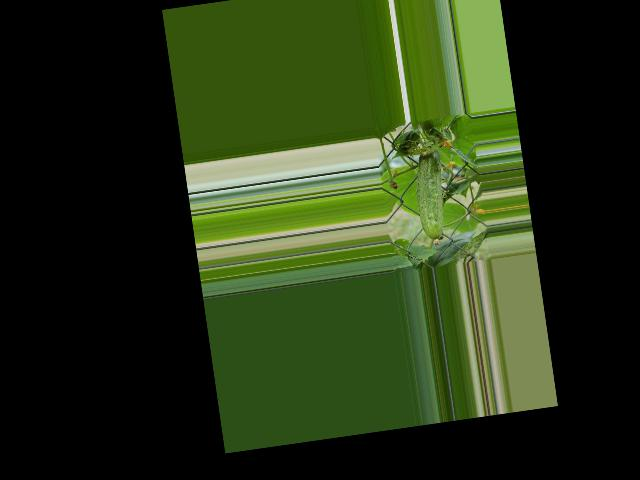cucumber: (410, 145, 451, 246)
